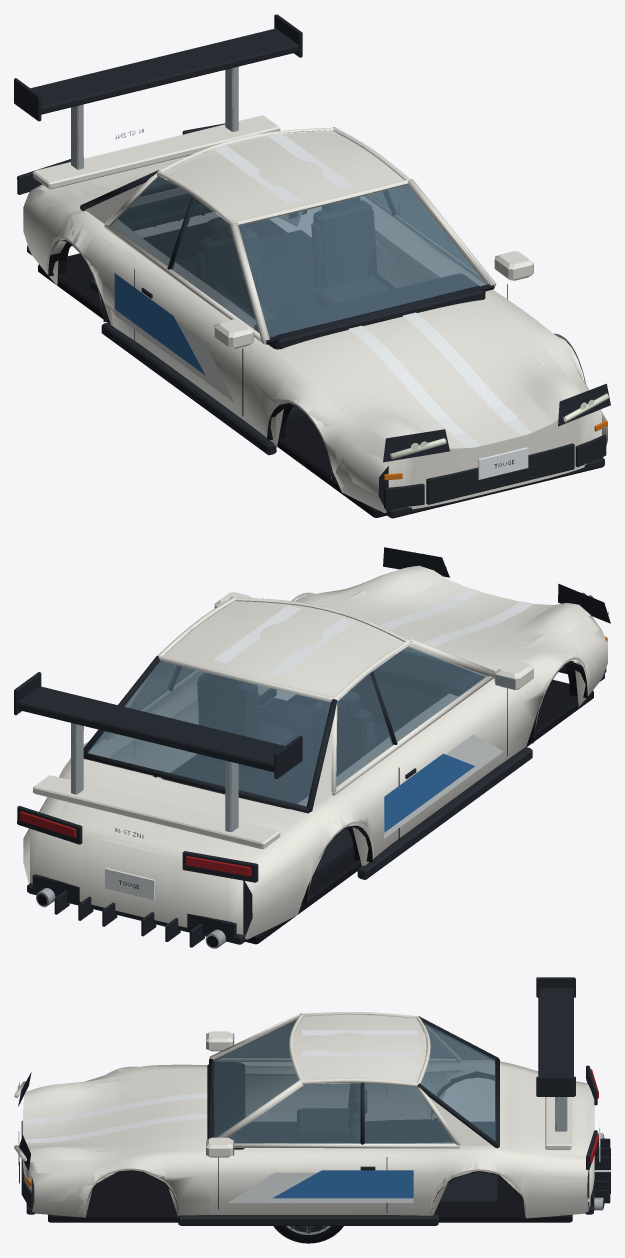
3 renders of one model, top to bottom at view 1: azimuth 30°, elevation 25°; view 2: azimuth 150°, elevation 25°; view 3: azimuth 270°, elevation 25°, orthographic. The views are drawn at different scales.
Visible parts, largest first — view 1: LOD0_body, LOD0_cabin, LOD0_glass, LOD1_glass, LOD1_body, LOD0_hood, LOD1_hood, LOD1_spoiler_gt, LOD1_cabin, LOD0_spoiler_gt, LOD0_vinyl_apex, LOD1_spoiler_stock (+3 smaller); view 2: LOD0_body, LOD0_cabin, LOD0_glass, LOD1_glass, LOD1_body, LOD0_hood, LOD1_spoiler_gt, LOD1_hood, LOD0_spoiler_gt, LOD1_cabin, LOD0_vinyl_apex, LOD1_spoiler_stock (+3 smaller); view 3: LOD0_body, LOD1_body, LOD0_cabin, LOD0_glass, LOD1_glass, LOD0_hood, LOD0_vinyl_apex, LOD1_cabin, LOD1_hood, LOD1_spoiler_gt, LOD0_vinyl_twin, LOD0_spoiler_gt (+3 smaller).
Part boxes in pixels (x1,y1,x2,y2): LOD0_body: (17,123,610,518); LOD0_cabin: (80,127,496,419); LOD0_glass: (111,176,486,337); LOD1_glass: (111,176,486,337); LOD1_body: (17,131,607,518); LOD0_hood: (272,297,580,449); LOD1_hood: (301,310,553,448); LOD1_spoiler_gt: (14,28,302,169); LOD1_cabin: (83,127,495,417); LOD0_spoiler_gt: (14,14,302,169); LOD0_vinyl_apex: (114,240,455,402); LOD1_spoiler_stock: (32,115,280,189); LOD0_body: (17,547,610,948); LOD0_cabin: (83,596,494,882); LOD0_glass: (88,646,485,806); LOD1_glass: (87,647,485,806); LOD1_body: (17,554,607,948); LOD0_hood: (312,565,590,671); LOD1_spoiler_gt: (16,672,293,831); LOD1_hood: (331,569,553,652); LOD0_spoiler_gt: (14,672,302,832); LOD1_cabin: (87,597,474,883); LOD0_vinyl_apex: (181,671,503,838); LOD1_spoiler_stock: (32,775,279,849); LOD0_body: (14,1031,610,1225); LOD1_body: (14,1031,604,1225); LOD0_cabin: (207,1012,499,1206); LOD0_glass: (213,1019,495,1143); LOD1_glass: (213,1020,495,1143); LOD0_hood: (22,1068,207,1161); LOD0_vinyl_apex: (228,1170,413,1202); LOD1_cabin: (208,1013,499,1206); LOD1_hood: (22,1073,189,1151); LOD1_spoiler_gt: (536,978,575,1130); LOD0_vinyl_twin: (26,1030,417,1142); LOD0_spoiler_gt: (536,977,575,1131).
Bounding box in the file's own units: 2.04 × 1.73 × 4.43.
